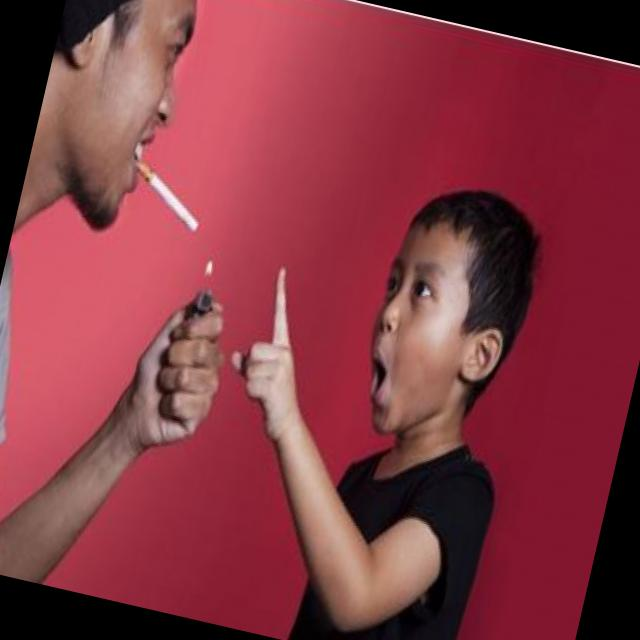cigarette: (123, 158, 210, 237)
